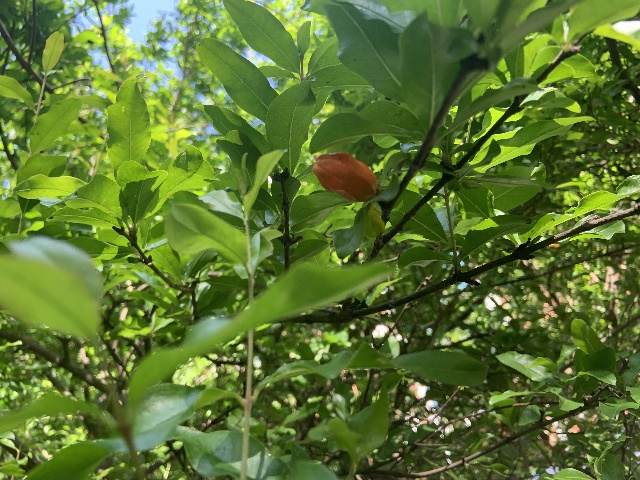bud: (312, 151, 377, 201)
